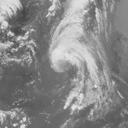cyclone: (48, 33, 100, 77)
